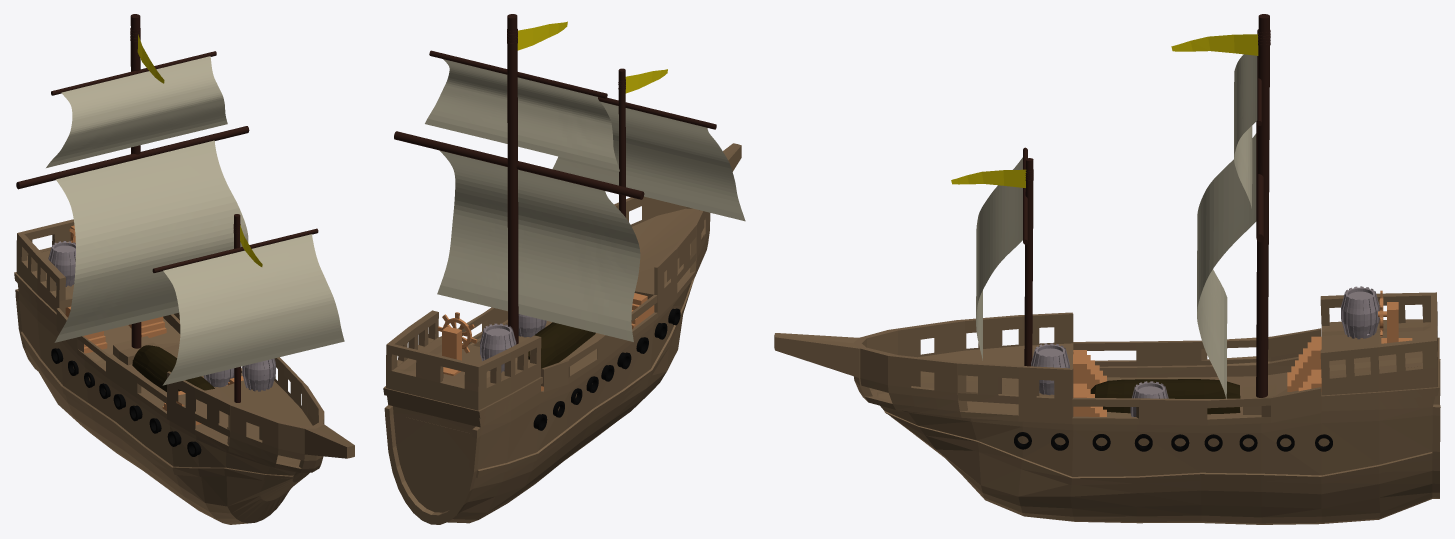
Rendered from Galleon.dae.
The picture shows the model from 3 angles, left to right: view 1: azimuth 30°, elevation 25°; view 2: azimuth 150°, elevation 25°; view 3: azimuth 270°, elevation 25°; orthographic projection. The views are drawn at different scales.
Parts seen in each view (by area): view 1: Sphere, sail_big_001, sail_big, sail_big_002, Cylinder_024, Sphere_001, Circle_020, Cylinder_019, Cylinder_028, Cylinder_008, Cylinder_025, Circle_008 (+1 smaller); view 2: Sphere, sail_big_001, sail_big_002, sail_big, Circle_020, Cylinder_024, Sphere_001, Cylinder_025, Cylinder_028, Circle_008, flag, Cylinder_008 (+4 smaller); view 3: Sphere, sail_big_001, Circle_020, sail_big, sail_big_002, Sphere_001, Cylinder_028, Circle_008, flag, Cube, Cylinder_019, flag_001 (+1 smaller).
Part boxes in pixels (box(x1,y1,x2,y2)): Sphere: box(14, 219, 354, 524); sail_big_001: box(54, 140, 248, 342); sail_big: box(162, 234, 344, 385); sail_big_002: box(46, 56, 227, 167); Cylinder_024: box(16, 126, 249, 189); Sphere_001: box(132, 345, 214, 391); Circle_020: box(130, 14, 141, 348); Cylinder_019: box(242, 358, 275, 391); Cylinder_028: box(48, 241, 75, 286); Cylinder_008: box(152, 228, 318, 272); Cylinder_025: box(51, 51, 216, 95); Circle_008: box(233, 214, 240, 402); Sphere: box(383, 143, 741, 524); sail_big_001: box(437, 150, 640, 341); sail_big_002: box(425, 59, 619, 171); sail_big: box(552, 101, 745, 221); Circle_020: box(507, 14, 518, 344); Cylinder_024: box(394, 131, 644, 199); Sphere_001: box(528, 322, 595, 368); Cylinder_025: box(429, 50, 607, 98); Cylinder_028: box(480, 323, 516, 372); Circle_008: box(618, 68, 625, 217); flag: box(517, 21, 567, 50); Cylinder_008: box(598, 97, 716, 129); Sphere: box(774, 292, 1440, 524); sail_big_001: box(1197, 133, 1256, 399); Circle_020: box(1256, 14, 1270, 397); sail_big: box(976, 157, 1022, 360); sail_big_002: box(1234, 54, 1257, 208); Sphere_001: box(1090, 379, 1240, 414); Cylinder_028: box(1341, 286, 1379, 339); Circle_008: box(1024, 158, 1033, 366); flag: box(1171, 34, 1258, 55); Cube: box(1287, 336, 1321, 391); Cylinder_019: box(1031, 343, 1069, 395); flag_001: box(951, 169, 1026, 187).
Bounding box in the file's own units: 1.55 × 3.38 × 2.83.
